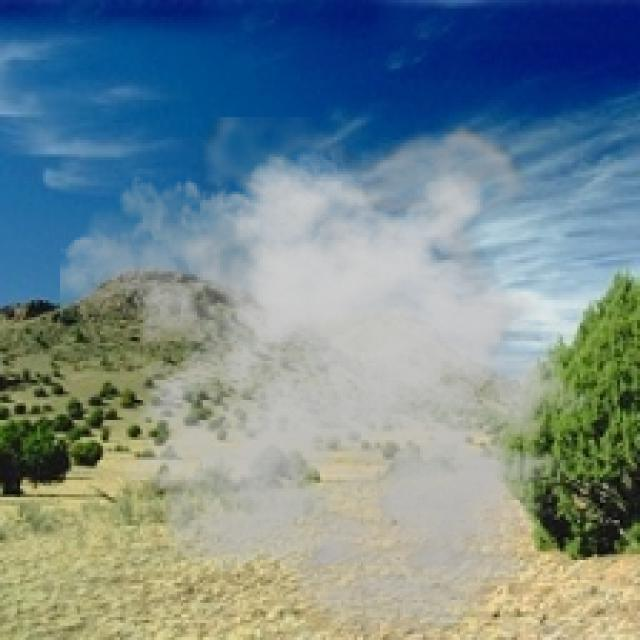Smoke: (60, 117, 623, 637)
